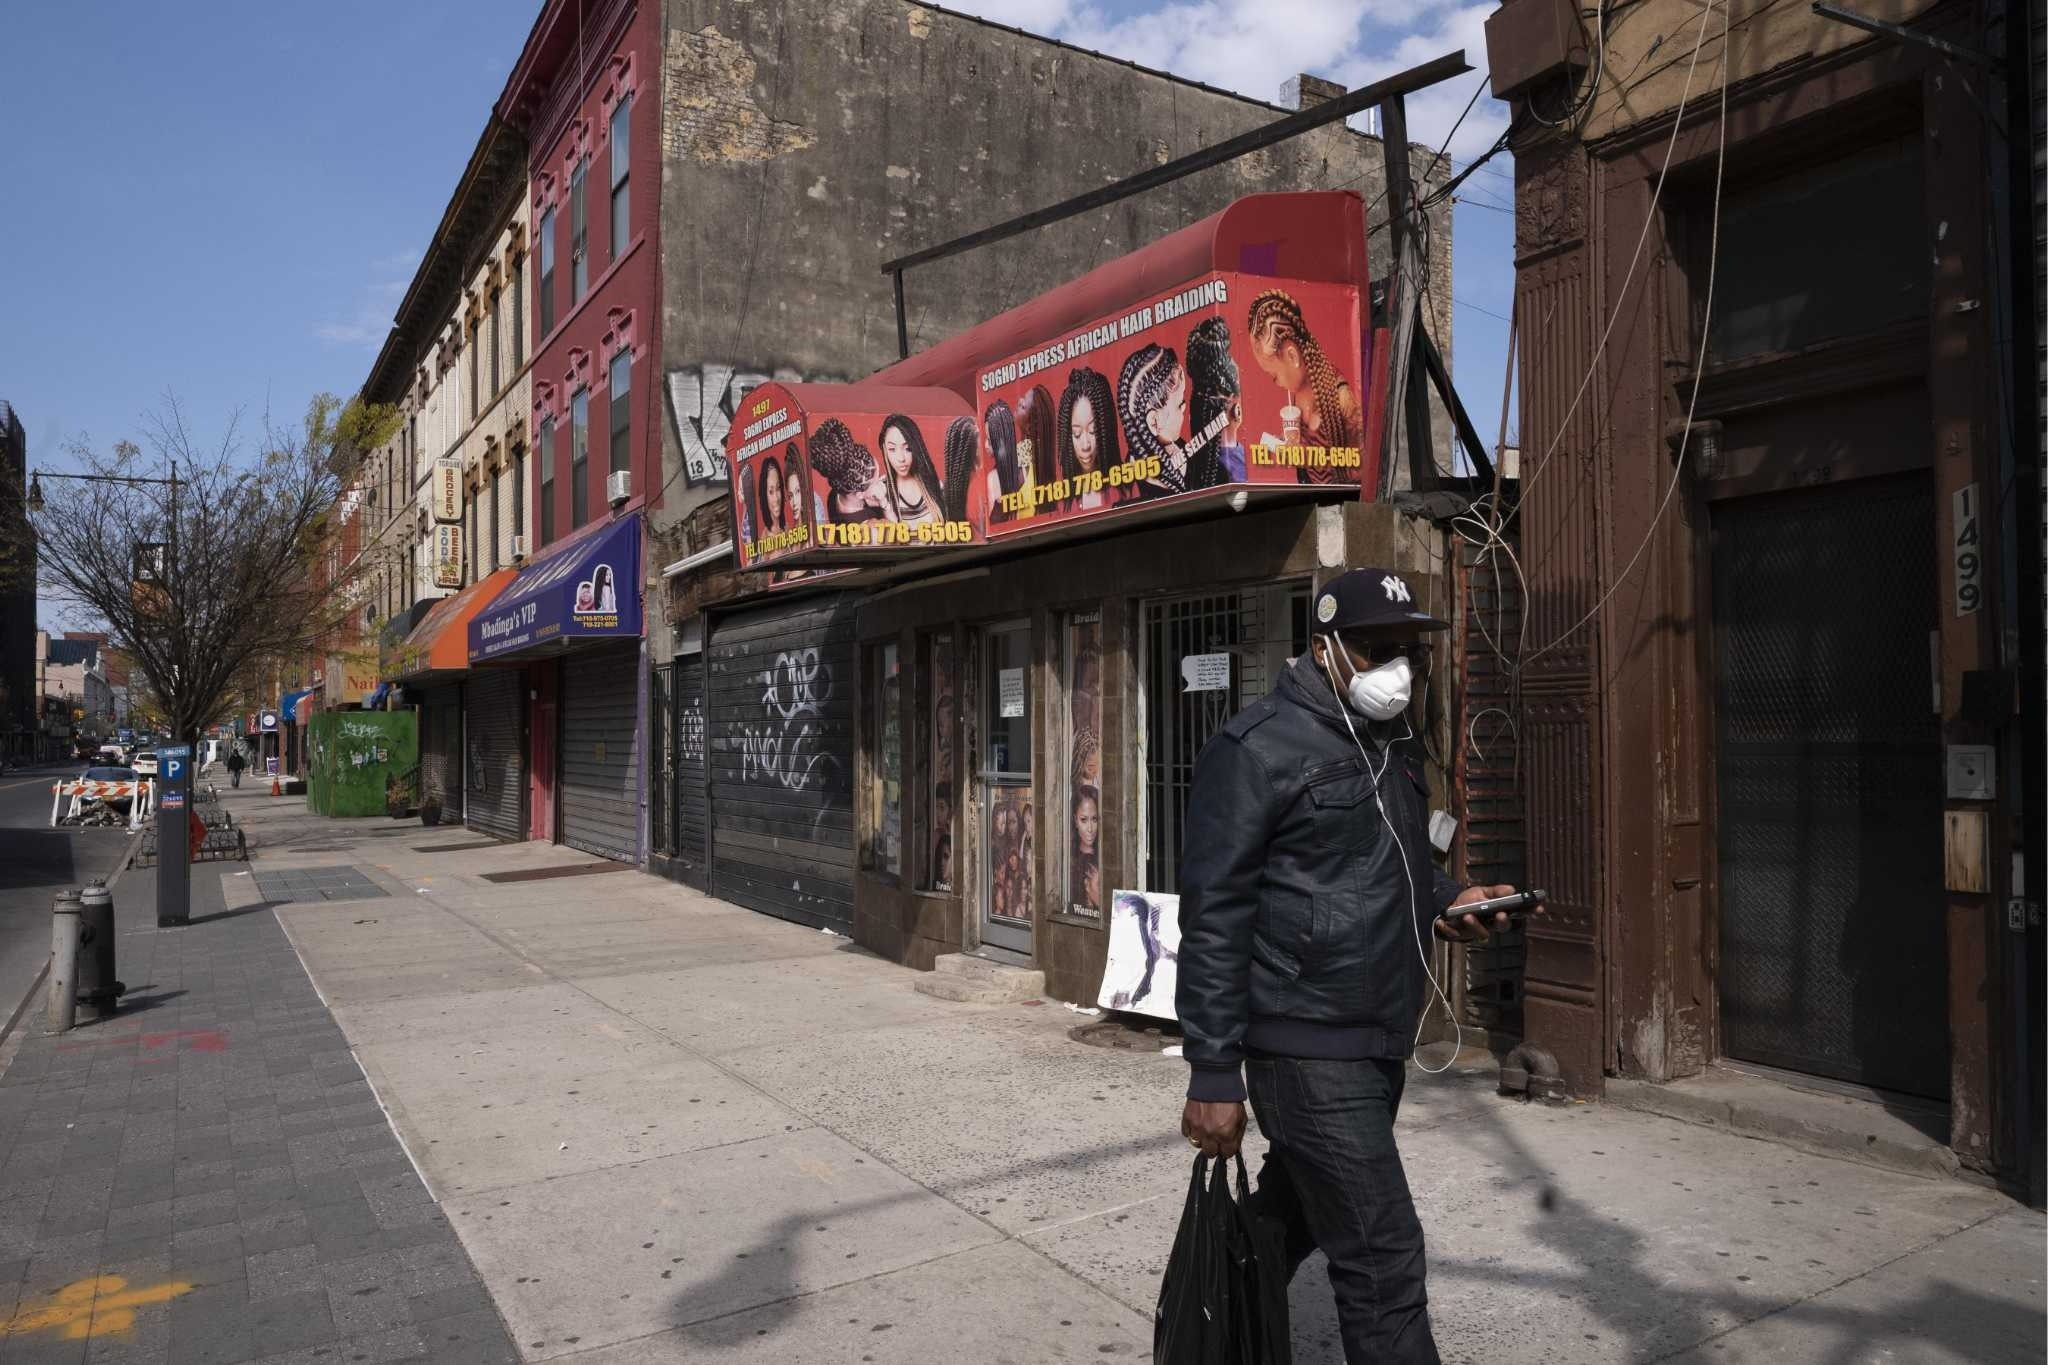face_with_mask: (1308, 575, 1430, 715)
